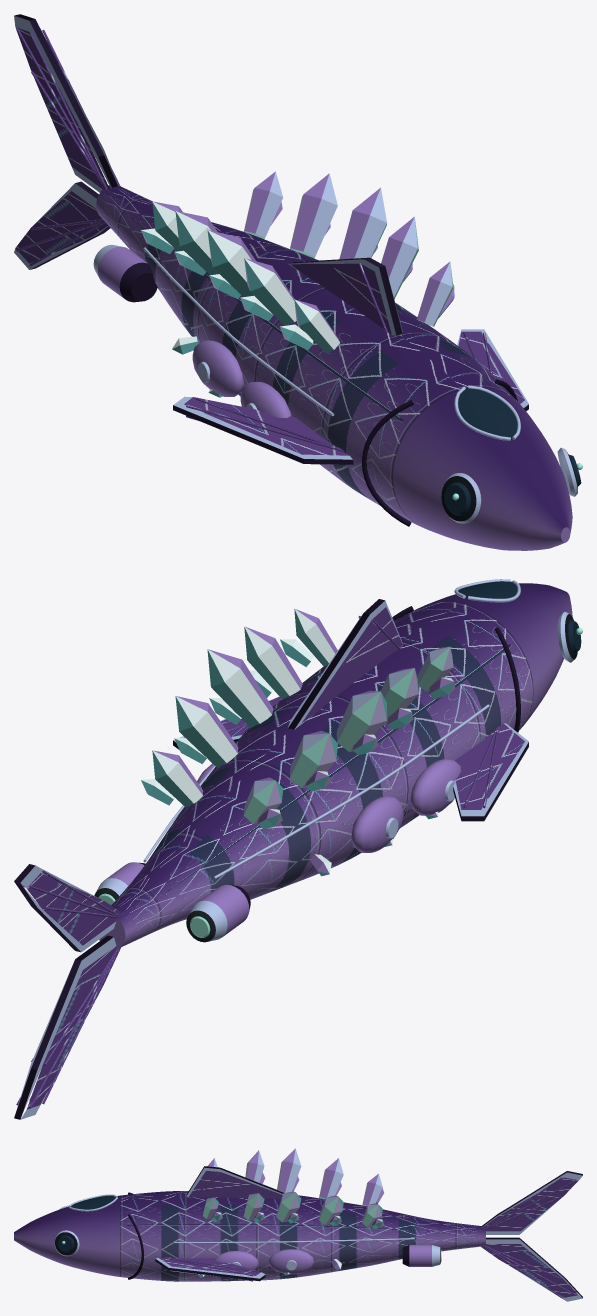
The picture shows the model from 3 angles, top to bottom: view 1: azimuth 30°, elevation 25°; view 2: azimuth 150°, elevation 25°; view 3: azimuth 270°, elevation 25°; orthographic projection. The views are drawn at different scales.
Visible parts, largest first — view 1: pilotfish_hull; view 2: pilotfish_hull; view 3: pilotfish_hull.
Part boxes in pixels (x1,y1,x2,y2): pilotfish_hull: (14,14,582,550); pilotfish_hull: (14,579,582,1119); pilotfish_hull: (14,1148,582,1301).
Bounding box in the file's own units: 5.24 × 4.16 × 16.
1 material, 1 textured.
